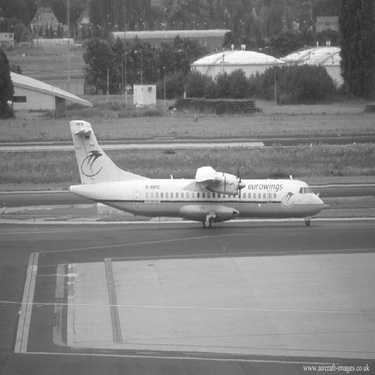airplane: (11, 102, 332, 236)
